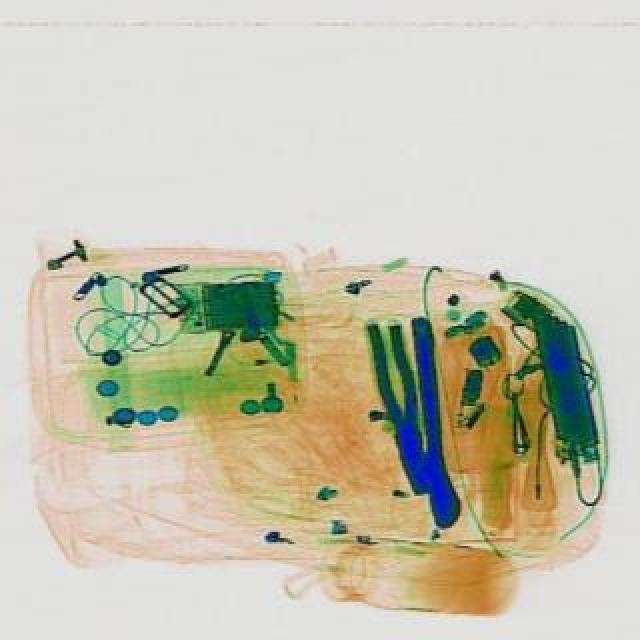scissors: (396, 312, 462, 530)
wrench: (360, 318, 442, 498)
